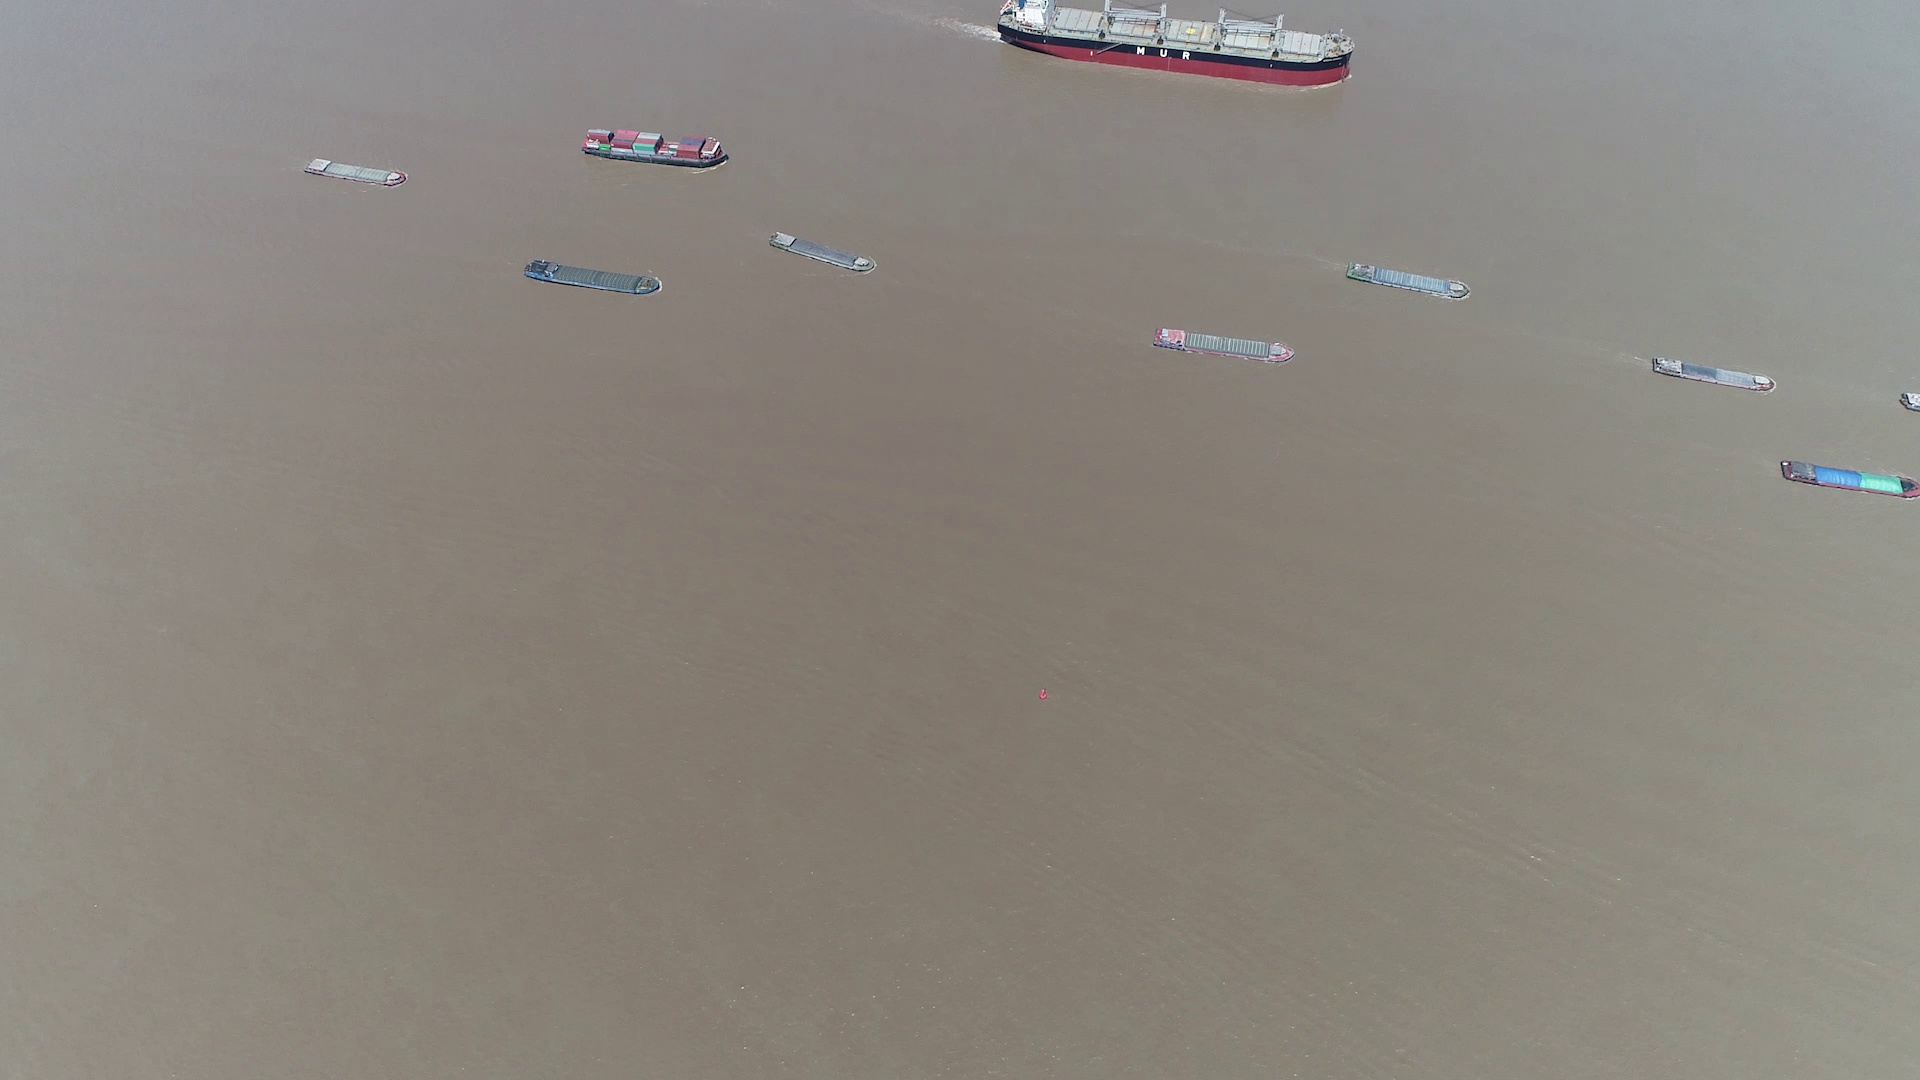ship: (1000, 0, 1353, 84), (1153, 324, 1295, 364), (1778, 459, 1919, 498), (584, 129, 727, 167), (524, 258, 661, 295), (1348, 260, 1469, 301), (1650, 353, 1778, 392), (771, 231, 877, 276), (302, 157, 407, 186)
